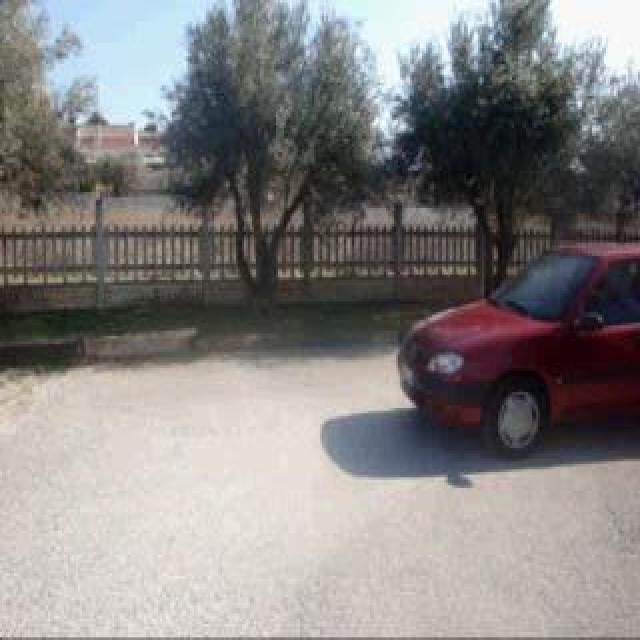other: (390, 230, 624, 460)
